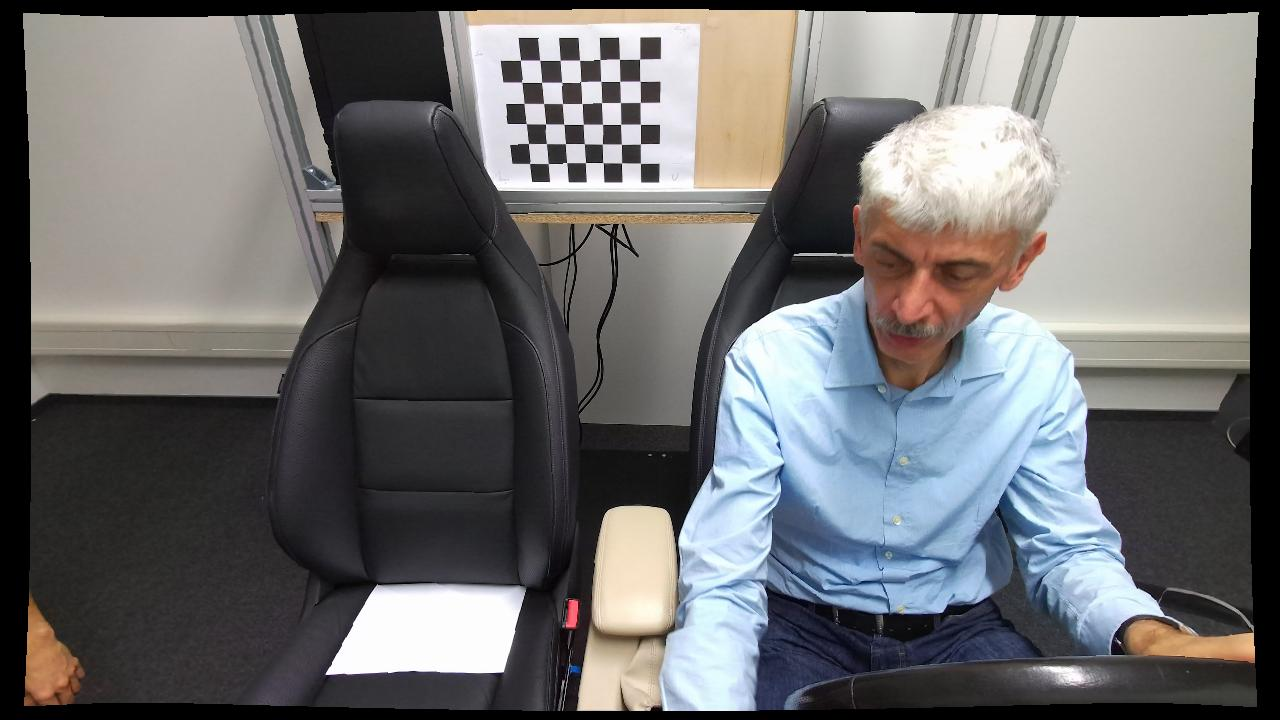Distracted: (657, 101, 1124, 712)
